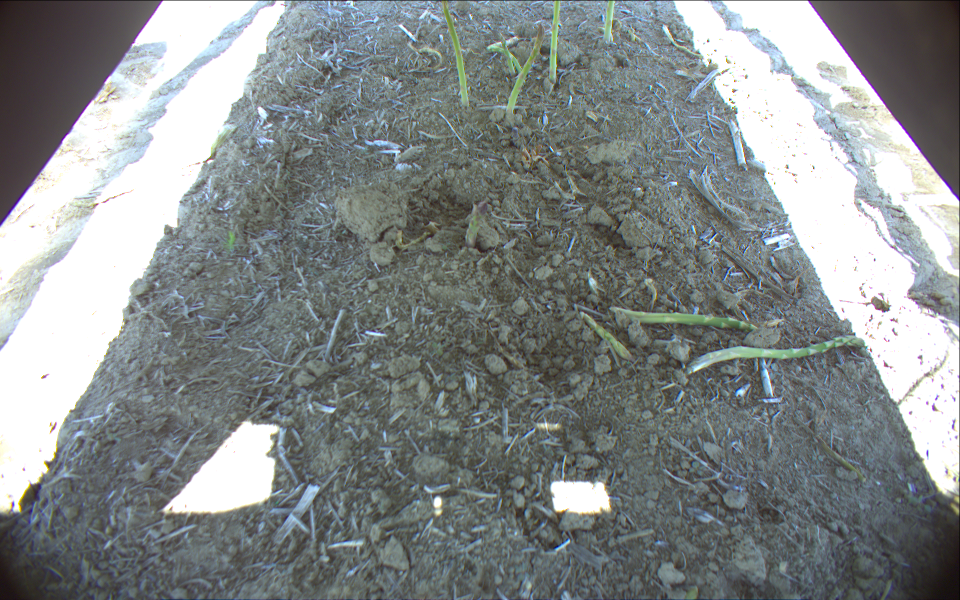aspa: (504, 21, 545, 122), (437, 1, 471, 107), (546, 1, 562, 86), (601, 1, 617, 46)
